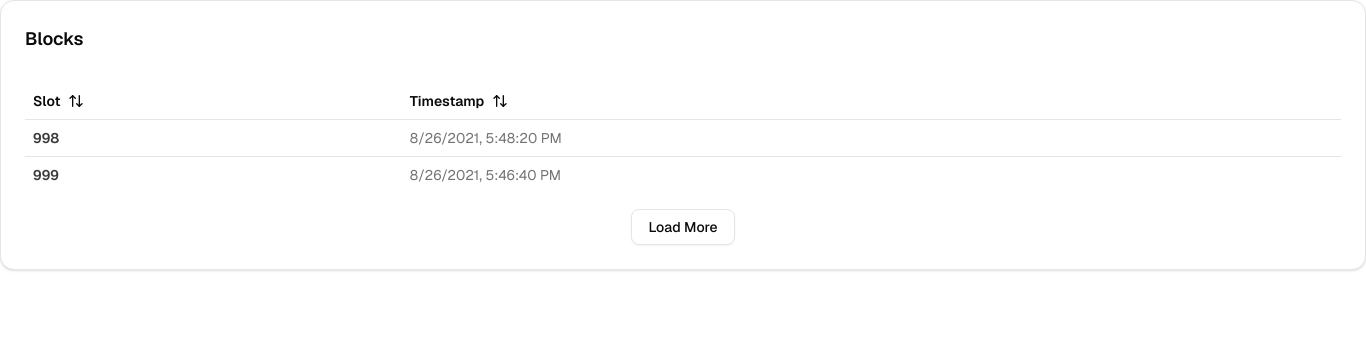
Test: BlocksCard › handles "Load More" functionality
Expected: the link "999" is shown, [33,165,59,185]
Step 1. Click the button "Load More" → (683, 227), box [632,209,735,245]
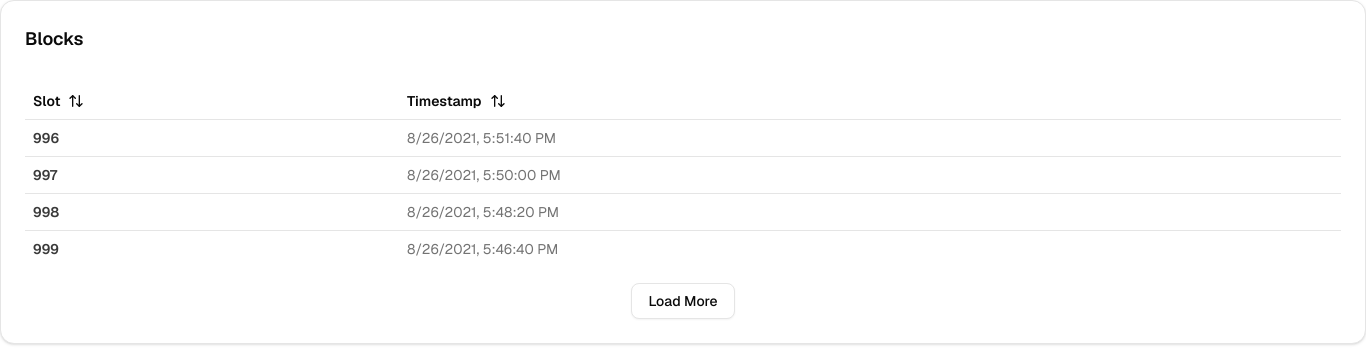
Expected: the link "997" is shown, [33,165,57,185]
Expected: the link "996" is shown, [33,128,59,148]
